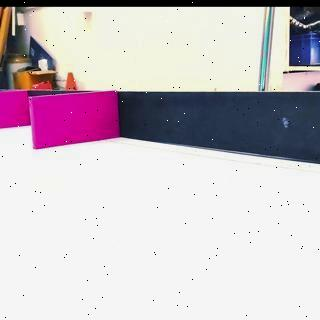xparking: (30, 96, 116, 139), (0, 92, 27, 126)
